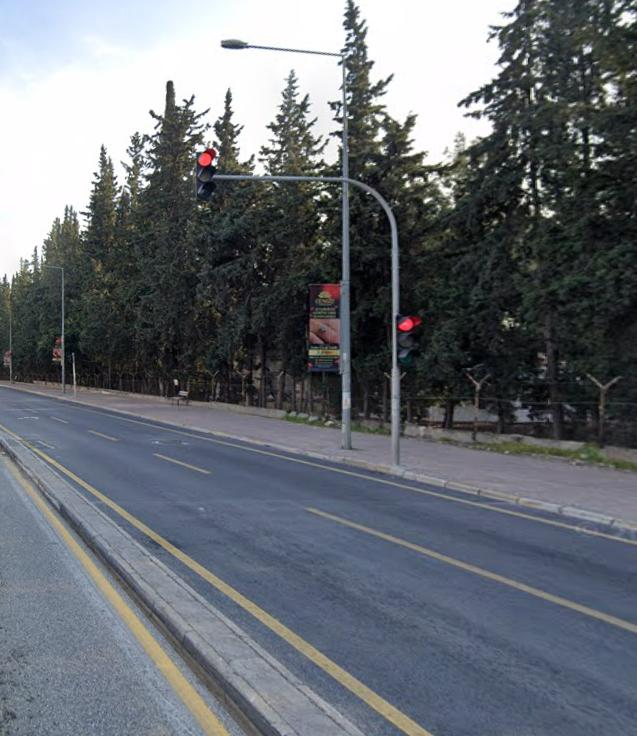redlight: (398, 316, 417, 372), (198, 149, 215, 203)
